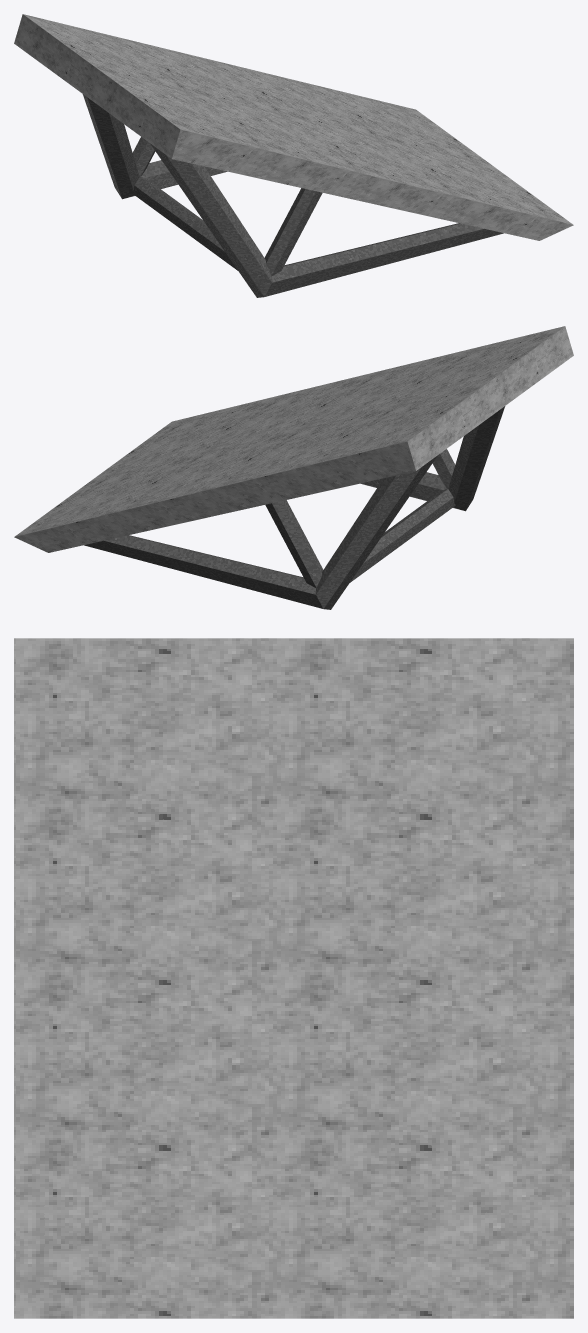
Rendered from Springboard.fbx.
3 renders of one model, top to bottom at view 1: azimuth 30°, elevation 25°; view 2: azimuth 150°, elevation 25°; view 3: azimuth 270°, elevation 25°, orthographic. The views are drawn at different scales.
Visible parts, largest first — view 1: Cylinder.001, Cylinder.003; view 2: Cylinder.001, Cylinder.003; view 3: Cylinder.001.
Part boxes in pixels (x1=…): Cylinder.001: x1=14, y1=14, x2=573, y2=240; Cylinder.003: x1=82, y1=94, x2=503, y2=297; Cylinder.001: x1=14, y1=326, x2=573, y2=552; Cylinder.003: x1=84, y1=406, x2=505, y2=609; Cylinder.001: x1=14, y1=638, x2=573, y2=1318.
Size of the model in its own units: 224 by 106 by 153.
